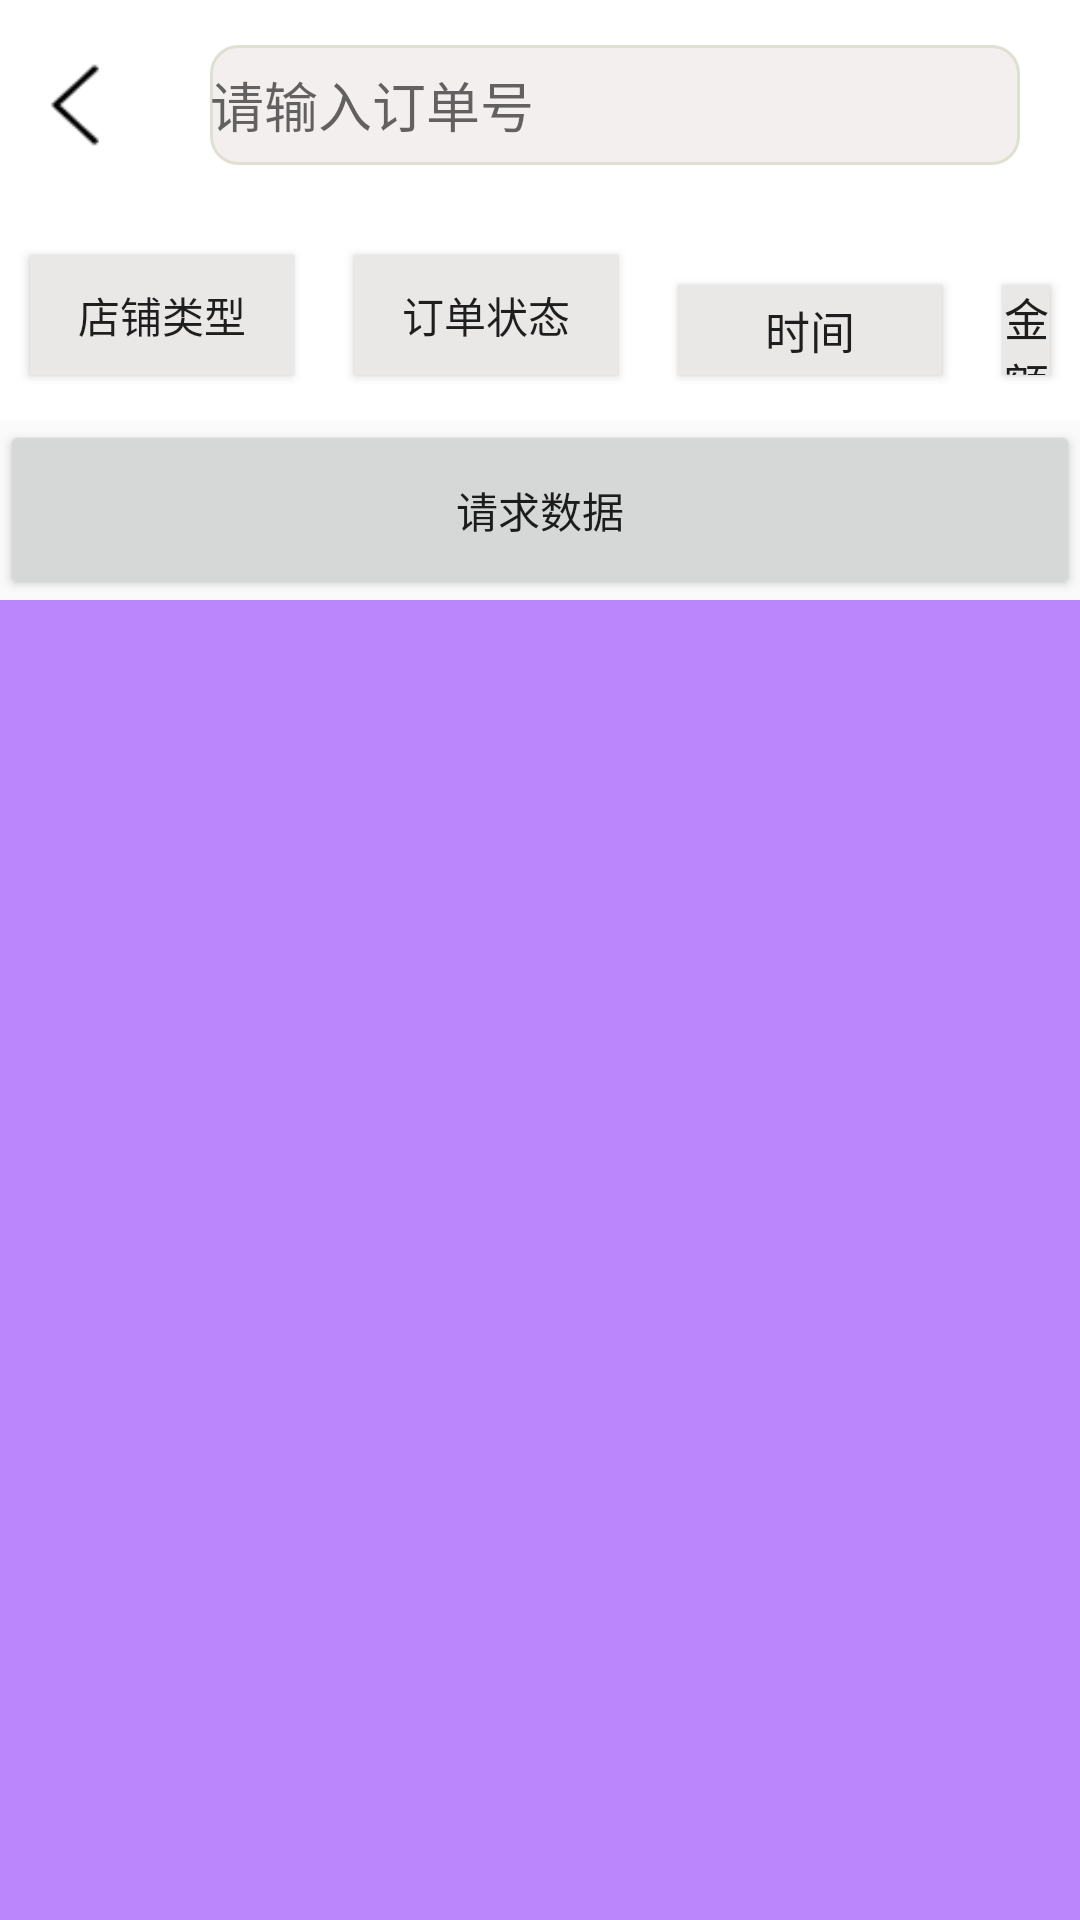

Icon click points for this 1080x1920 phone screenshot, format (x=x, y=y):
back: (x=75, y=105)
